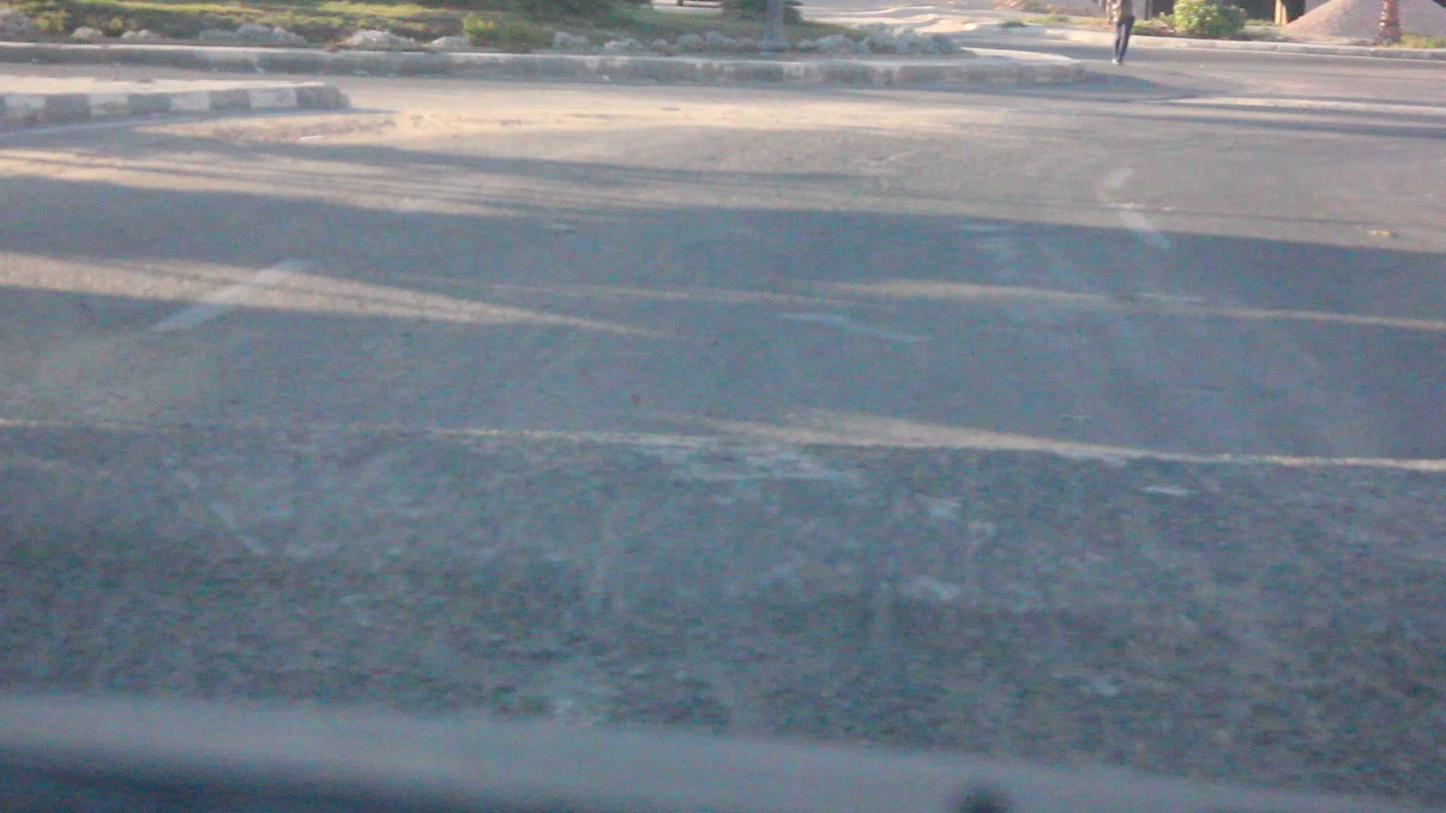Bump: (8, 418, 1446, 775)
